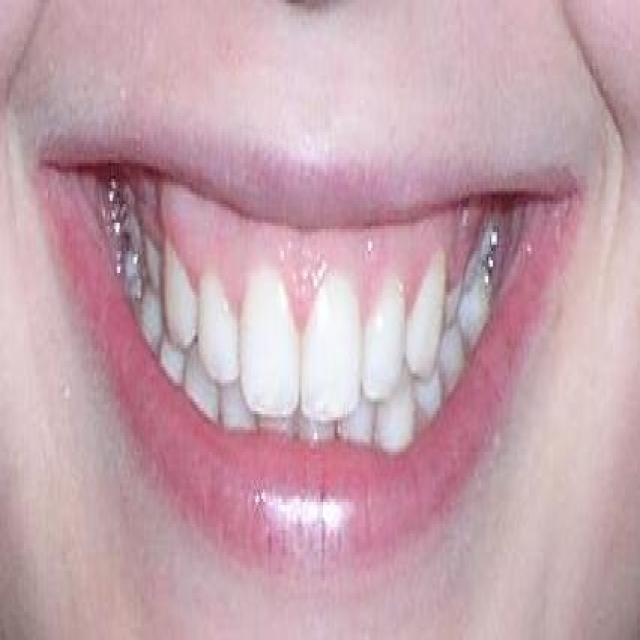tooth: (237, 282, 299, 411), (305, 289, 361, 411), (366, 270, 406, 389), (197, 270, 240, 380), (407, 264, 439, 374), (161, 248, 197, 342), (458, 270, 497, 345), (377, 383, 413, 464), (184, 345, 216, 424), (138, 288, 165, 358), (410, 367, 449, 411), (437, 329, 467, 383), (349, 389, 374, 452), (218, 392, 257, 430), (158, 332, 185, 382), (302, 411, 333, 445), (147, 238, 162, 286)
